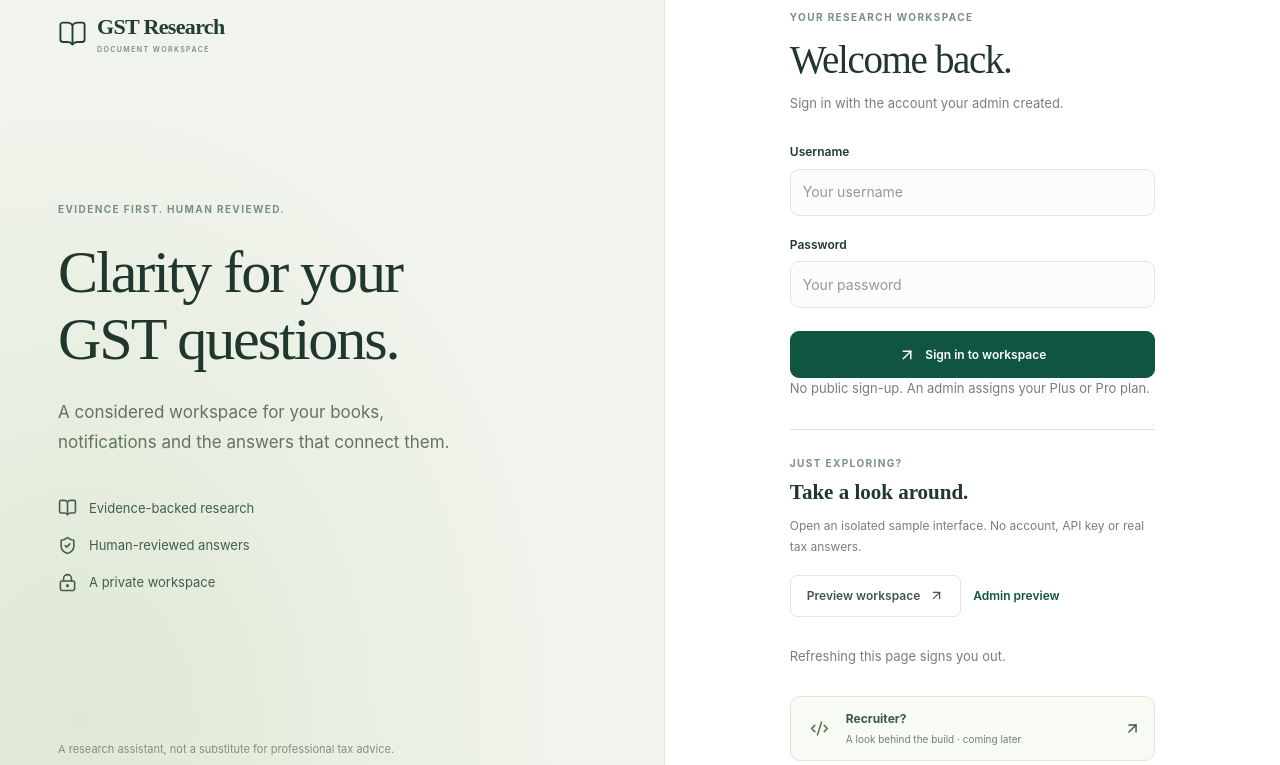
Test case: User workspace › submits a follow-up into its existing conversation and hides the new draft
Click the button "Preview workspace" at (876, 596), box [790,575,961,617]
(page scrolled)
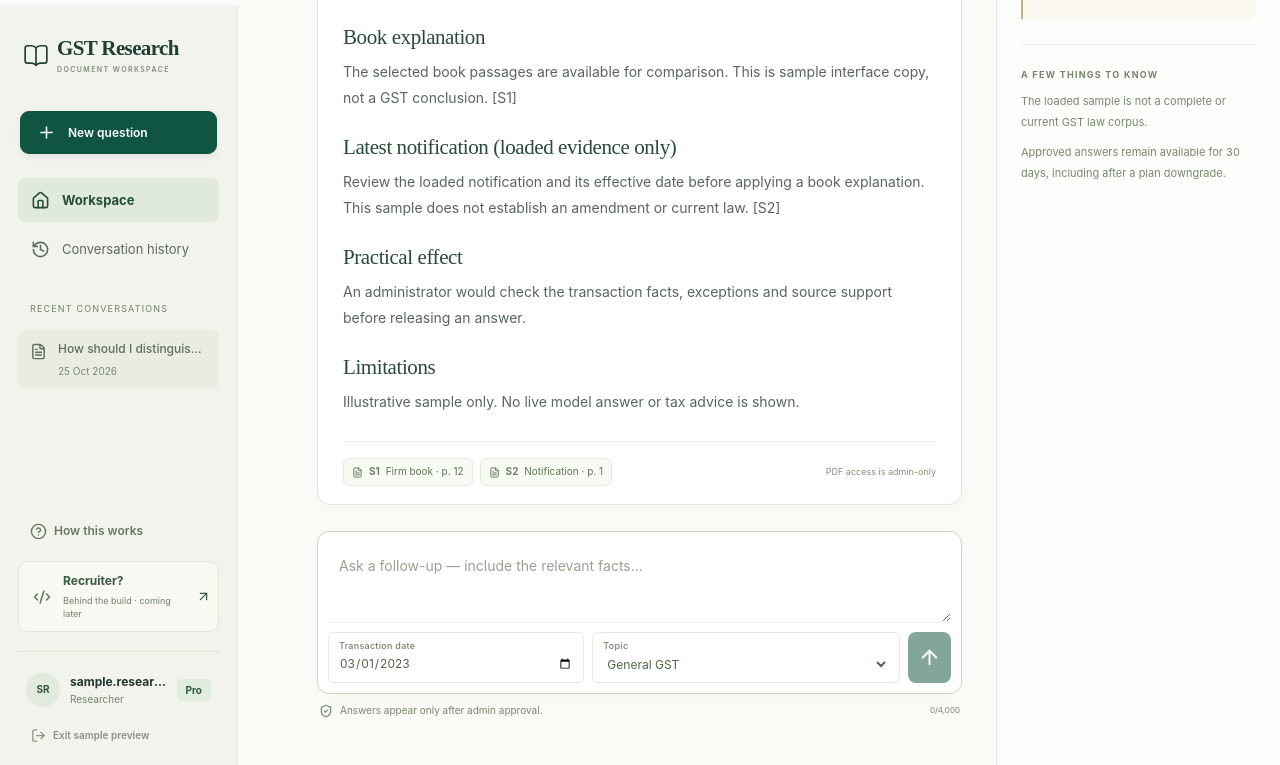
Type "What additional facts should I provide?" into the text box named "GST question" at (640, 582), box [328,542,951,622]
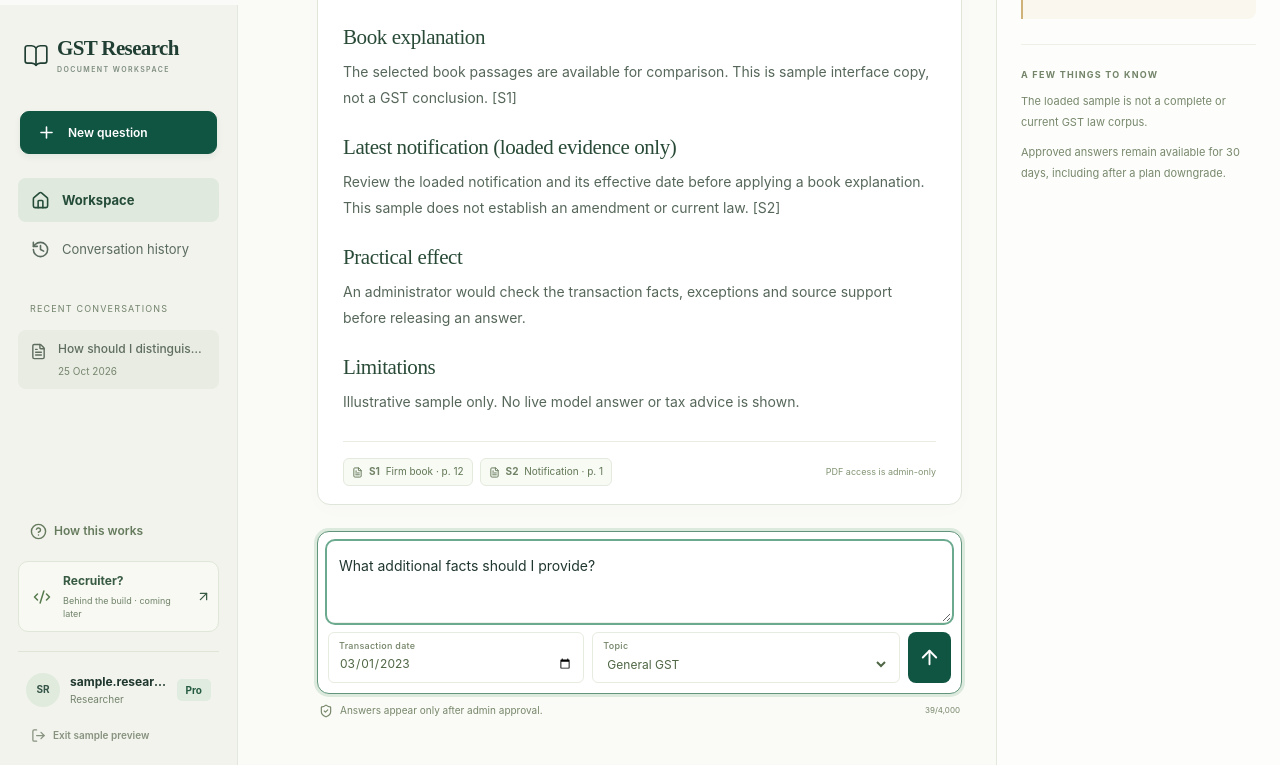
Click the button named "Send question" at (930, 657), box [908,632,951,683]
(page scrolled)
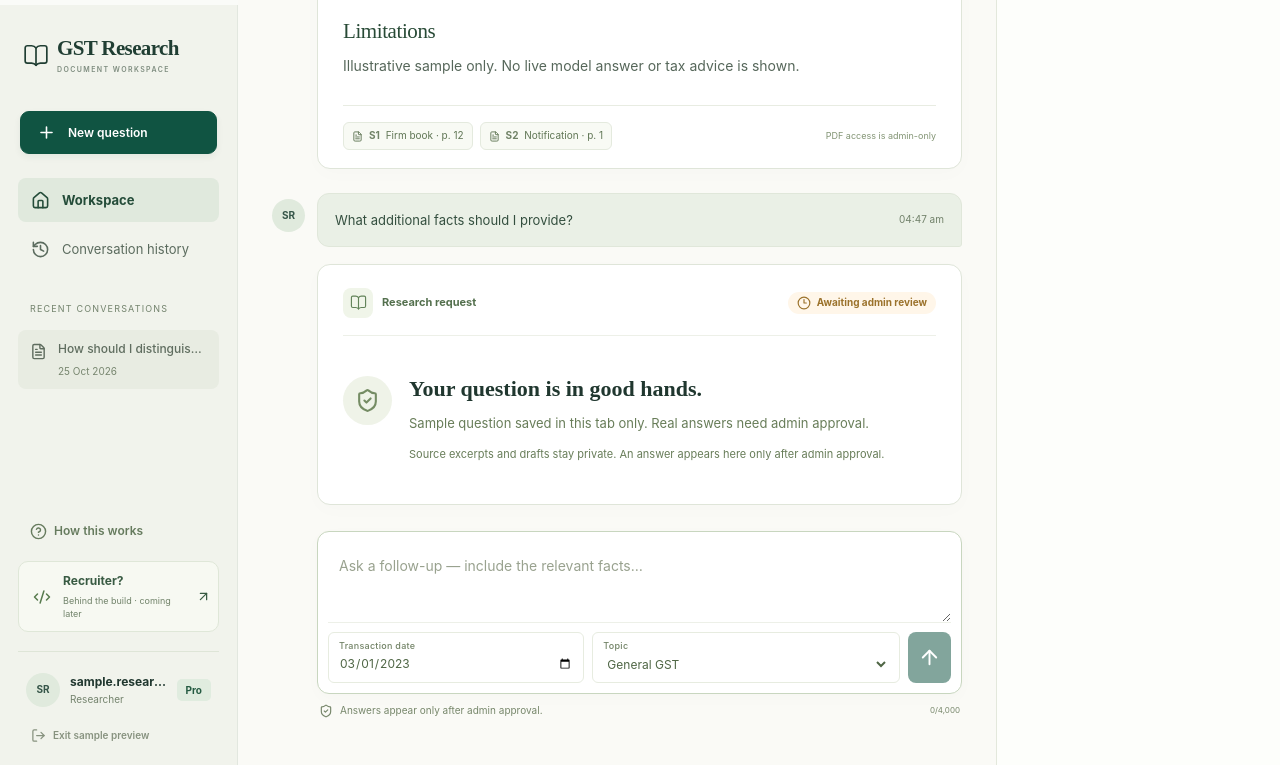
Check: the text "What additional facts should I provide?" is shown, box [335,212,573,228]
Check: the text "Awaiting admin review" is shown, box [788,292,936,314]
Check: the text "Sample question saved" is shown, box [409,415,869,431]
